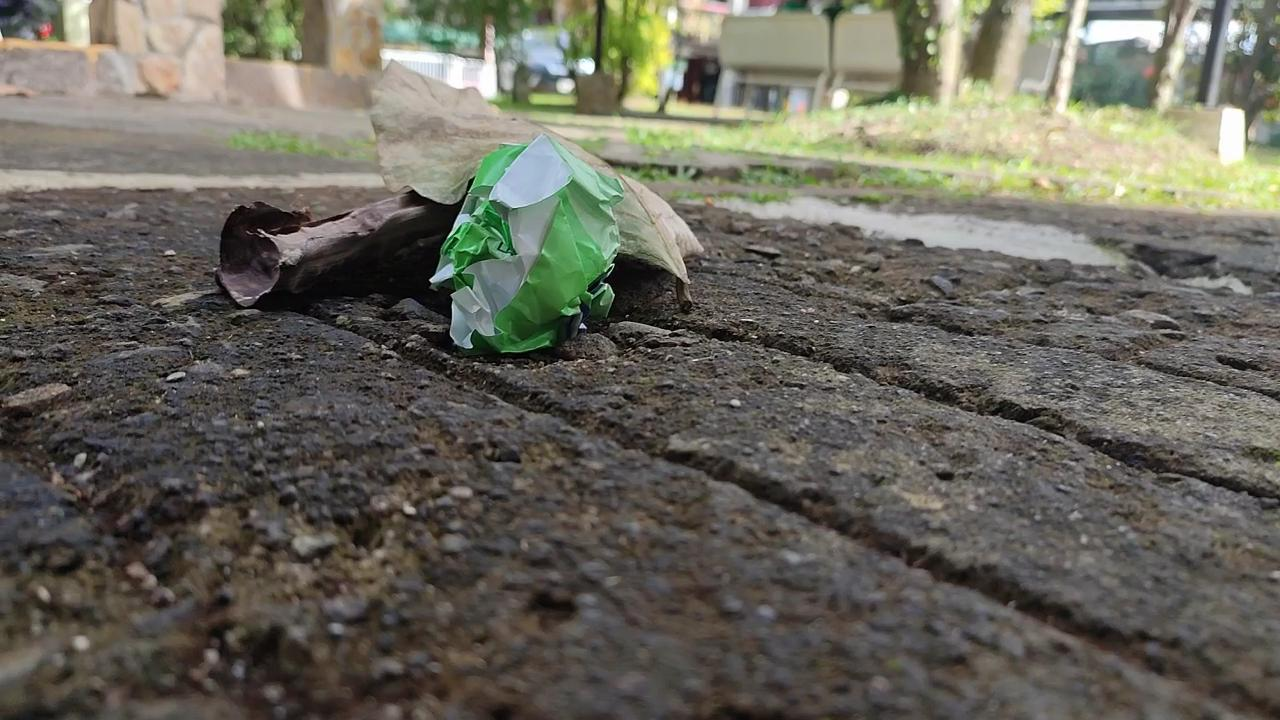Paper: (413, 126, 625, 361)
